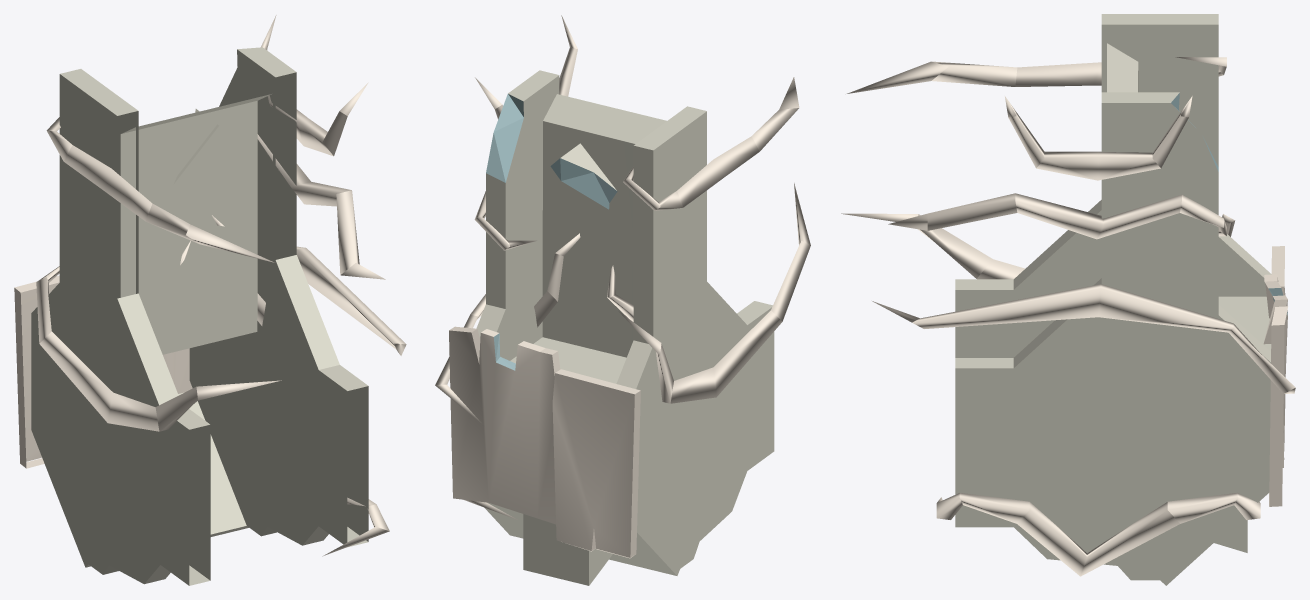
3 views of the same model, side by side, from view 1: azimuth 30°, elevation 25°; view 2: azimuth 150°, elevation 25°; view 3: azimuth 270°, elevation 25° (orthographic). The views are drawn at different scales.
Parts seen in each view (by area): view 1: Object01; view 2: Object01; view 3: Object01.
Part boxes in pixels (x1,y1,x2,y2): Object01: (14, 15, 406, 585); Object01: (435, 15, 810, 585); Object01: (841, 14, 1295, 585).
Size of the model in its own units: 28716 by 60688 by 49950.
